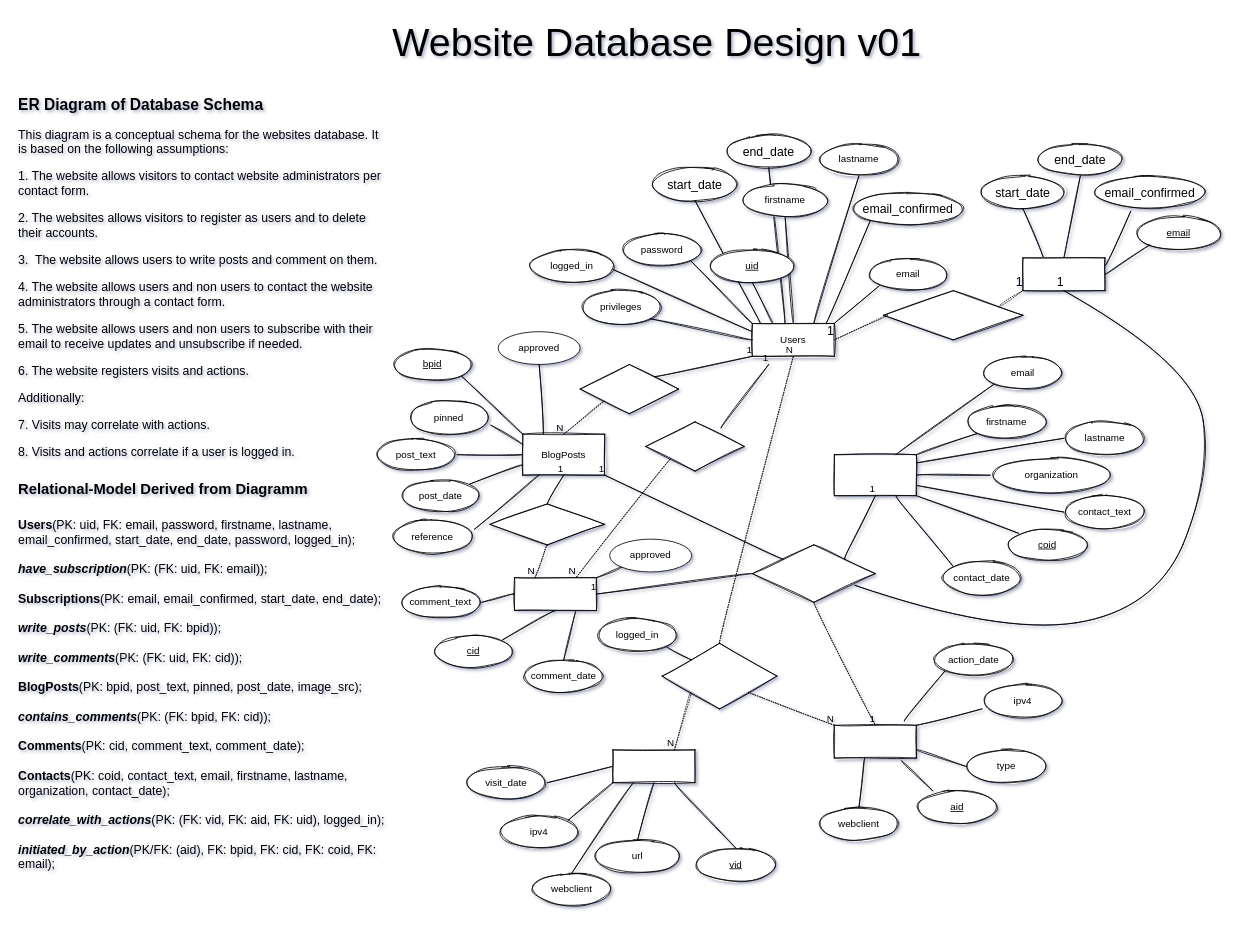
Some shapes in this 1239 by 941 pixel diagram are drawn without their labels. Each missing label, with the box of its shape:
Actions: (834, 724, 916, 758)
Comments: (514, 577, 597, 610)
Contacts: (834, 454, 916, 496)
contains_comments: (489, 503, 605, 545)
correlate_with_actions: (661, 642, 777, 709)
have_subscription: (883, 290, 1023, 340)
initiated_by_action: (752, 544, 875, 602)
Subscriptions: (1022, 257, 1105, 291)
Visits: (612, 749, 695, 783)
write_comments: (645, 421, 744, 471)
write_posts: (579, 364, 679, 414)
